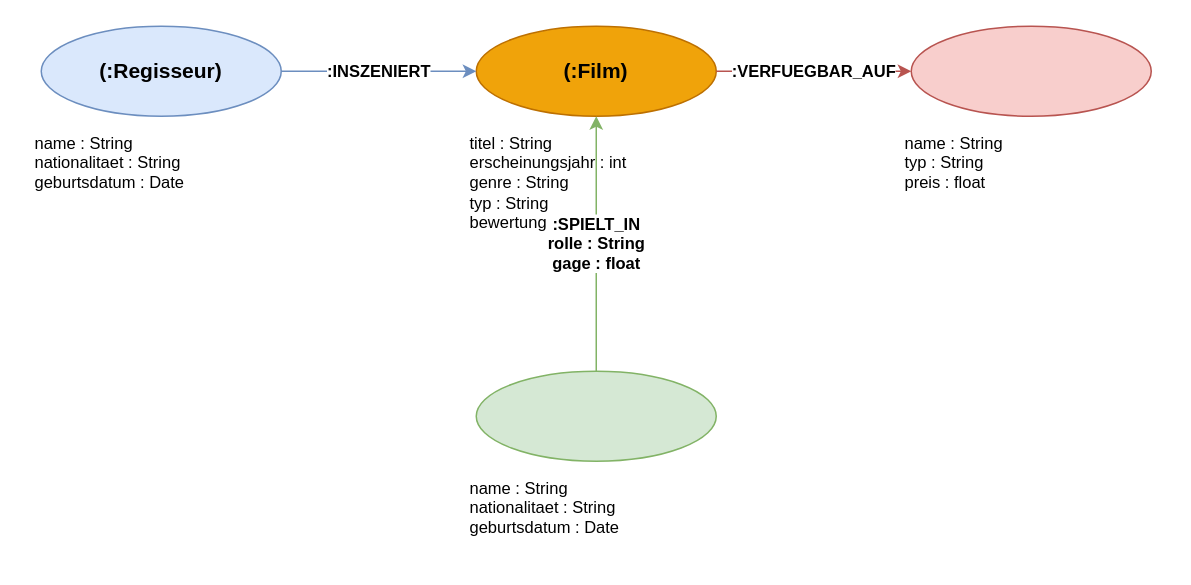
The diagram is 1191 pixels wide and 585 high, and some of its shapes have lost their labels. Each missing label, with the box of its shape:
(:Plattform): (910, 25, 1151, 116)
(:Schauspieler): (475, 370, 716, 461)
